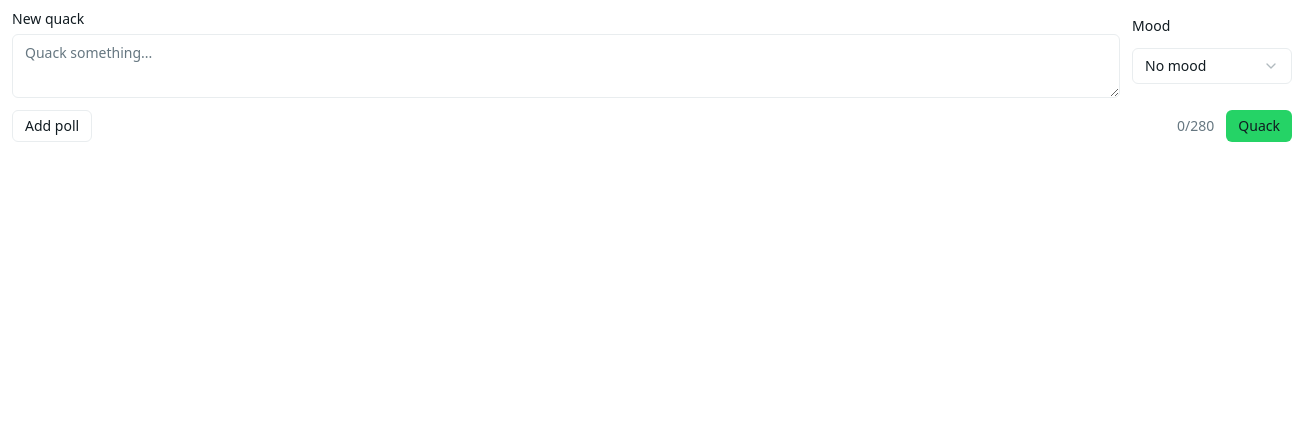
QuackForm › poll › lets answers be removed only while more than two are left
Click the button "Add poll" at (52, 126), box [12,110,92,142]
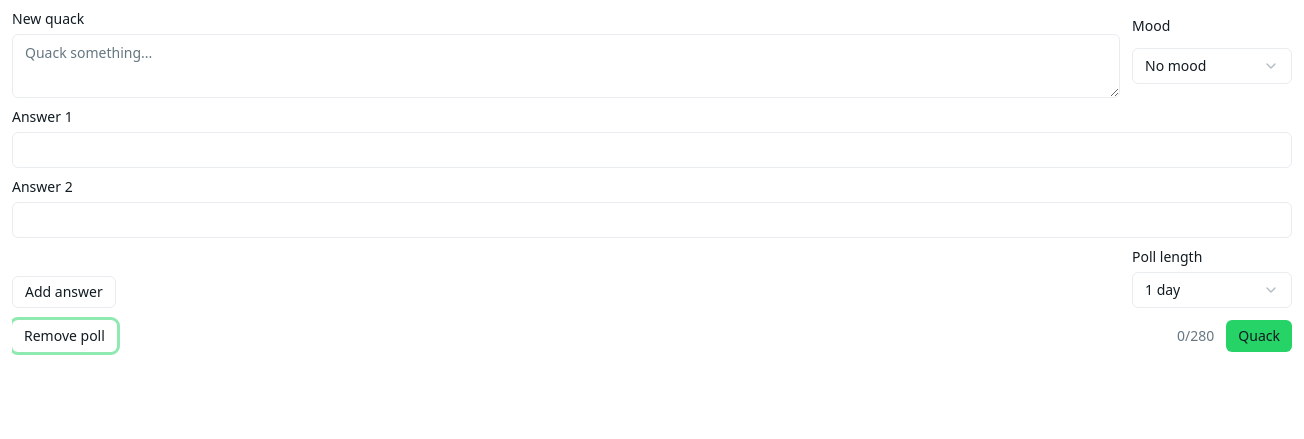
Click the button "Add answer" at (64, 292), box [12,276,116,308]
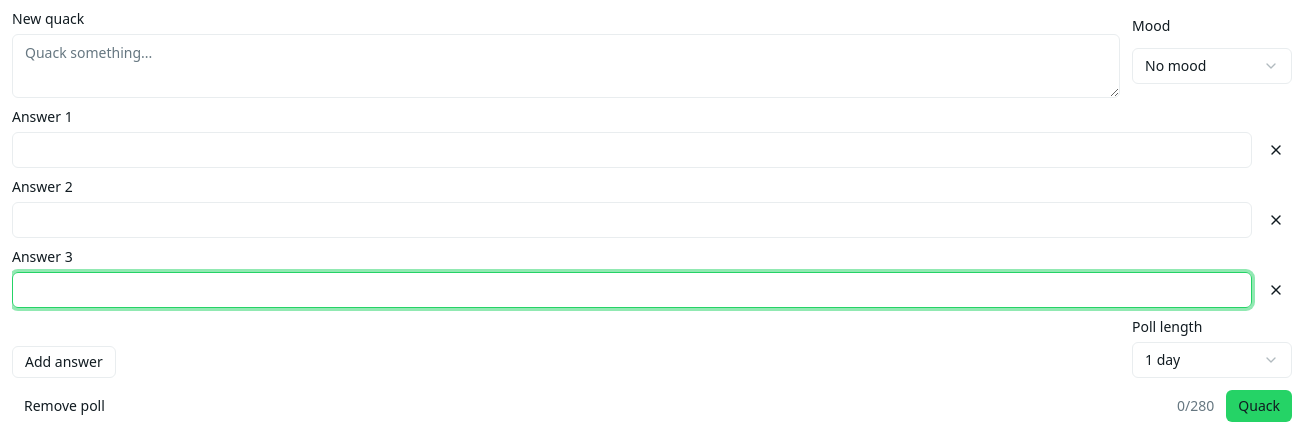
Click the button named "Remove answer 3" at (1276, 290), box [1260,274,1292,306]
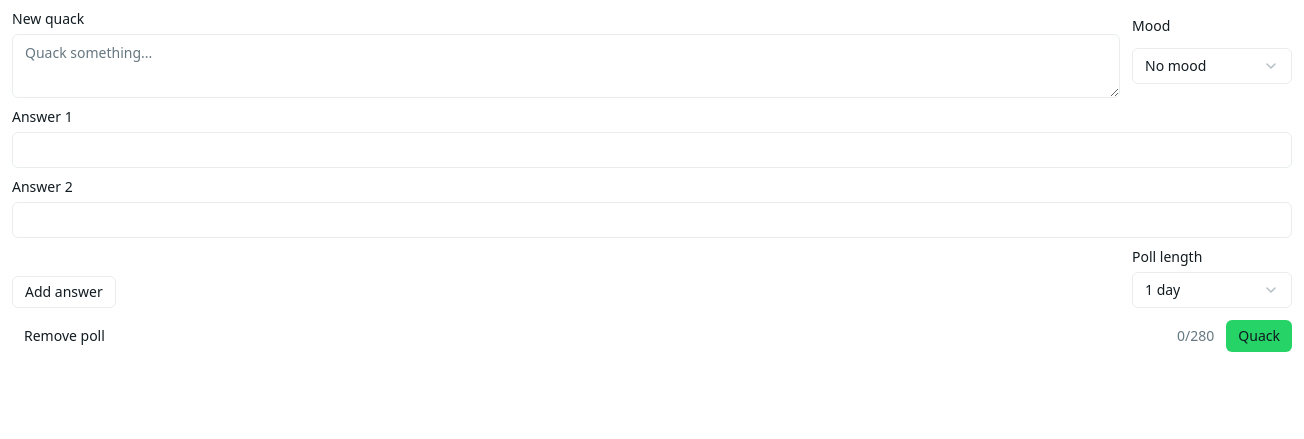
expect the label labelled "Answer 3" is gone: met
